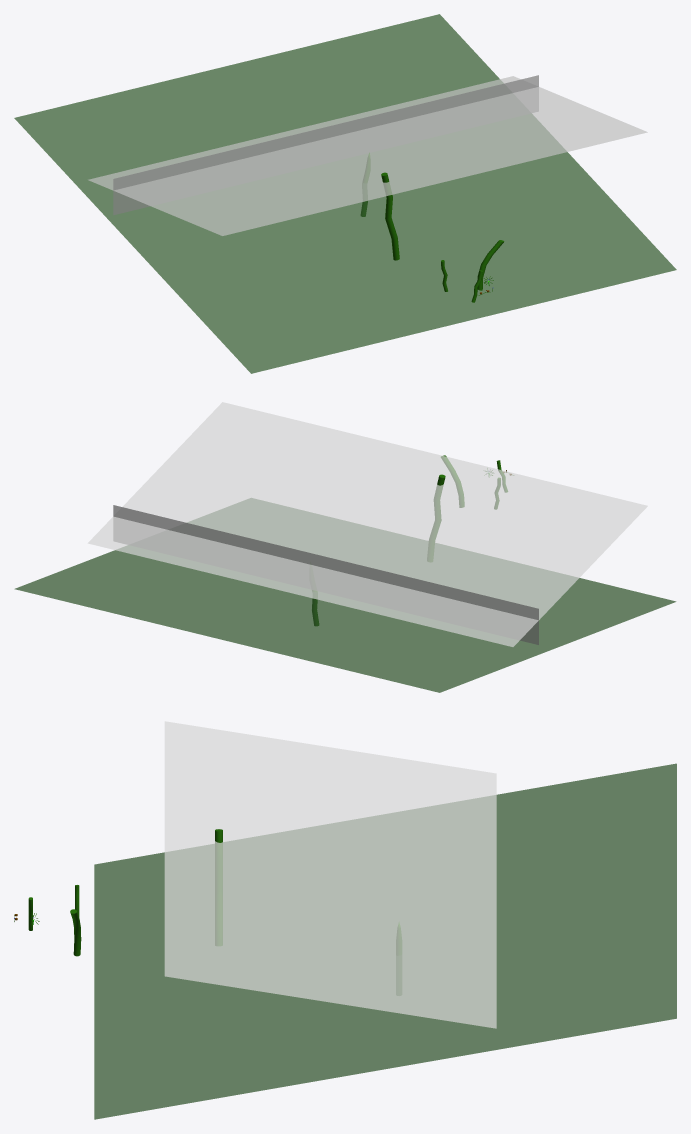
The model's file is Rayman Whitebox.fbx.
3 renders of one model, top to bottom at view 1: azimuth 30°, elevation 25°; view 2: azimuth 150°, elevation 25°; view 3: azimuth 270°, elevation 25°, orthographic. The views are drawn at different scales.
Parts seen in each view (by area): view 1: pPlane1, pPlane3, pPlane2, pasted__pCylinder7; view 2: pPlane3, pPlane1, pPlane2, pasted__pCylinder7; view 3: pPlane1, pPlane3, pasted__pCylinder7.
Part boxes in pixels (left/top/right/bottom): pPlane1: left=14, top=14, right=676, bottom=373; pPlane3: left=88, top=76, right=647, bottom=235; pPlane2: left=113, top=75, right=538, bottom=215; pasted__pCylinder7: left=381, top=172, right=399, bottom=260; pPlane3: left=87, top=402, right=647, bottom=646; pPlane1: left=14, top=498, right=676, bottom=692; pPlane2: left=113, top=505, right=538, bottom=644; pasted__pCylinder7: left=427, top=474, right=445, bottom=562; pPlane1: left=94, top=763, right=676, bottom=1119; pPlane3: left=164, top=721, right=496, bottom=1028; pasted__pCylinder7: left=215, top=829, right=222, bottom=945.
Size of the model in its own units: 1159 by 307 by 1272.
